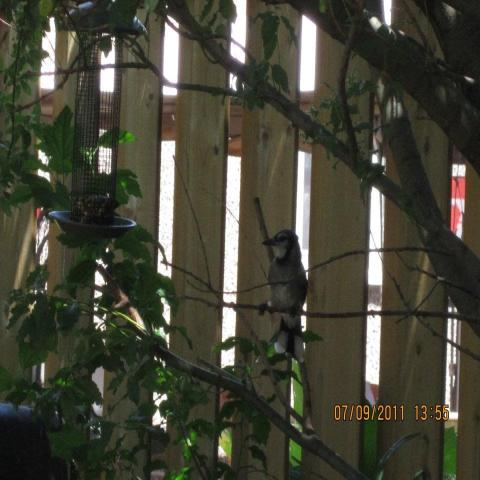bird: (258, 226, 310, 364)
